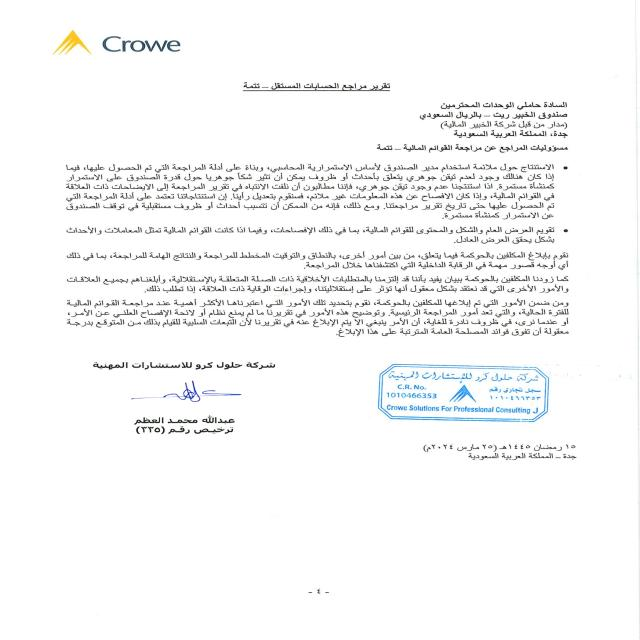auditor_report: (205, 79, 412, 102), (363, 142, 573, 154)
